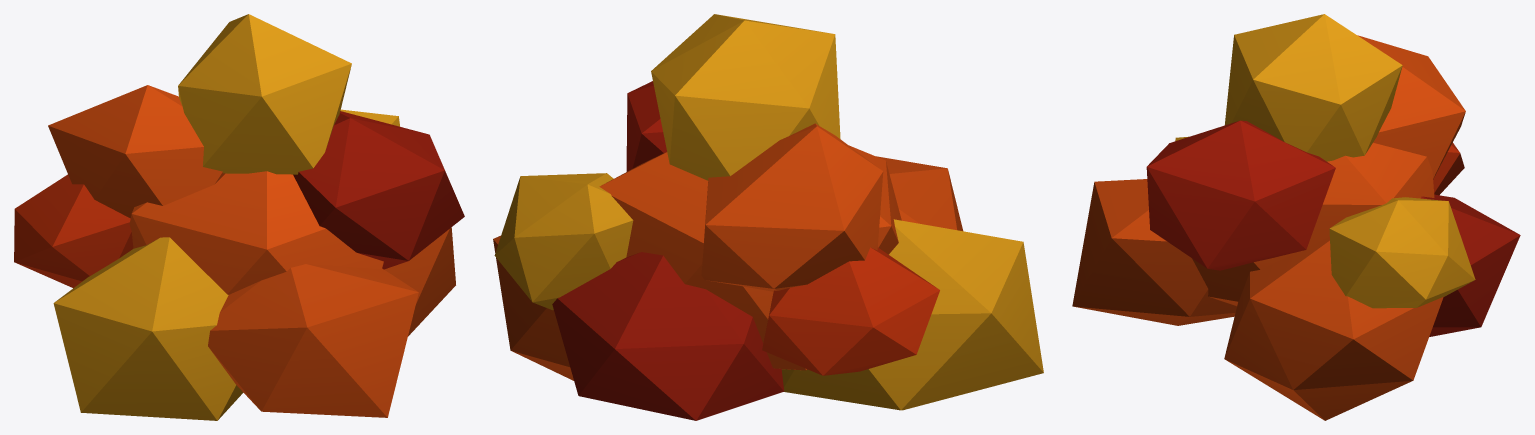
The model's file is oakO.glb.
The picture shows the model from 3 angles, left to right: view 1: azimuth 30°, elevation 25°; view 2: azimuth 150°, elevation 25°; view 3: azimuth 270°, elevation 25°; orthographic projection. The views are drawn at different scales.
Parts seen in each view (by area): view 1: oakO; view 2: oakO; view 3: oakO.
Boxes of the visible parts, bbox=[...] form: oakO: bbox=[14, 14, 464, 420]; oakO: bbox=[493, 14, 1043, 420]; oakO: bbox=[1072, 14, 1520, 420].
Bounding box in the file's own units: 1.29 × 1.07 × 1.22.
